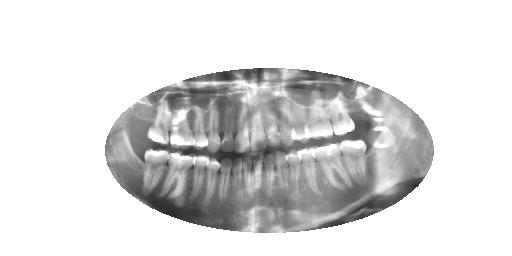Cavity: (207, 155, 222, 205), (252, 152, 264, 191)
Fillings: (144, 101, 172, 146), (339, 138, 367, 182), (297, 147, 320, 197), (188, 153, 210, 202), (171, 105, 193, 147), (333, 97, 355, 136), (292, 99, 308, 142)
